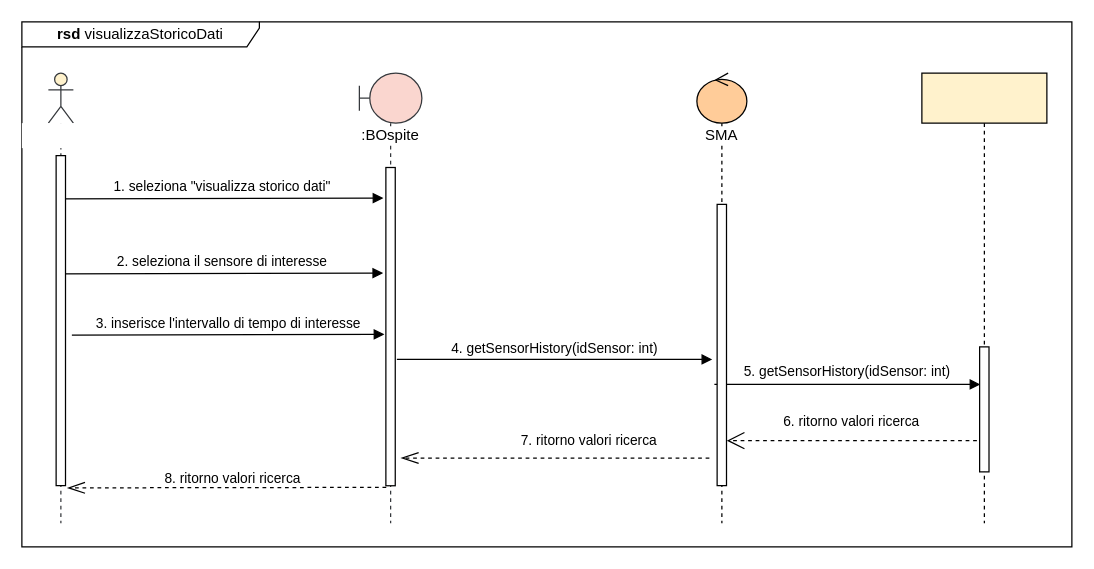
Image size: 1094x569. Some labels were removed from this diagram. The box of each missing label's shape, as (x1, y1, x2, y2) in pixels:
:Ospite: (21, 122, 112, 148)
:Sensori: (921, 72, 1047, 523)
